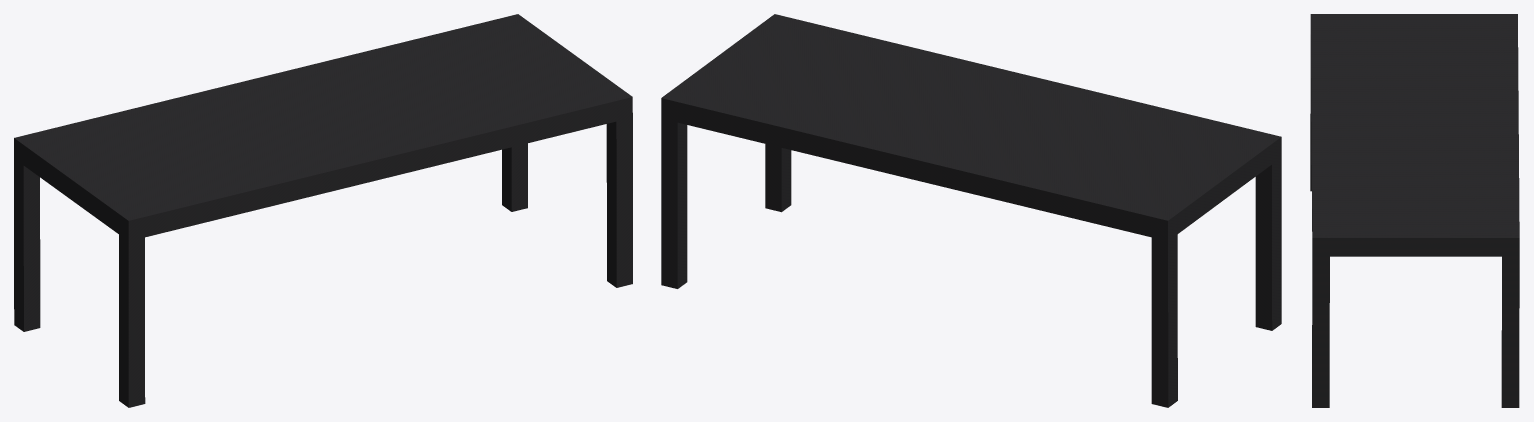
Rendered from IKEA-Lack_Black_Table-3D.FBX.
3 renders of one model, left to right at view 1: azimuth 30°, elevation 25°; view 2: azimuth 150°, elevation 25°; view 3: azimuth 270°, elevation 25°, orthographic. The views are drawn at different scales.
Parts seen in each view (by area): view 1: Box01; view 2: Box01; view 3: Box01.
Part boxes in pixels (box(x1,y1,x2,y2)): Box01: box(14, 14, 632, 407); Box01: box(661, 14, 1281, 407); Box01: box(1310, 14, 1519, 407).
Bounding box in the file's own units: 1.1 × 0.4342 × 0.3898.
Materials: 1 (1 with a texture image).
